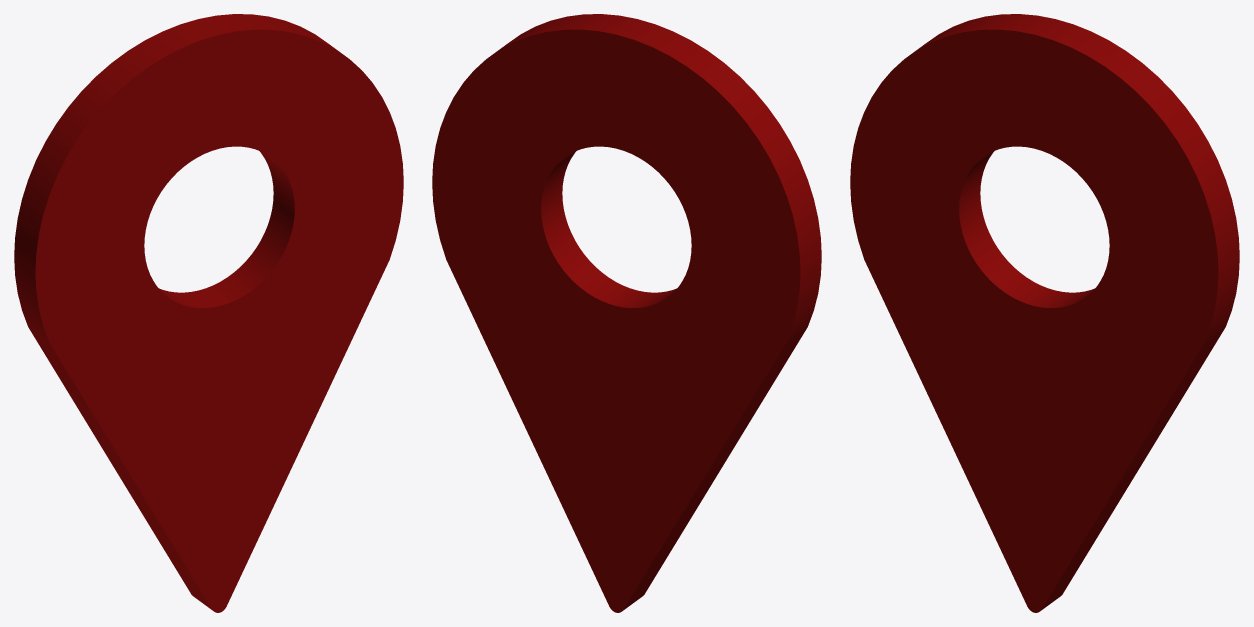
File: MapMarker2.gltf
The picture shows the model from 3 angles, left to right: view 1: azimuth 30°, elevation 25°; view 2: azimuth 150°, elevation 25°; view 3: azimuth 330°, elevation 25°; orthographic projection.
Parts seen in each view (by area): view 1: Cylinder; view 2: Cylinder; view 3: Cylinder.
Part boxes in pixels (box(x1,y1,x2,y2)): Cylinder: box(14, 14, 403, 612); Cylinder: box(432, 14, 821, 612); Cylinder: box(850, 14, 1239, 612).
Bounding box in the file's own units: 2 × 3 × 0.2.
